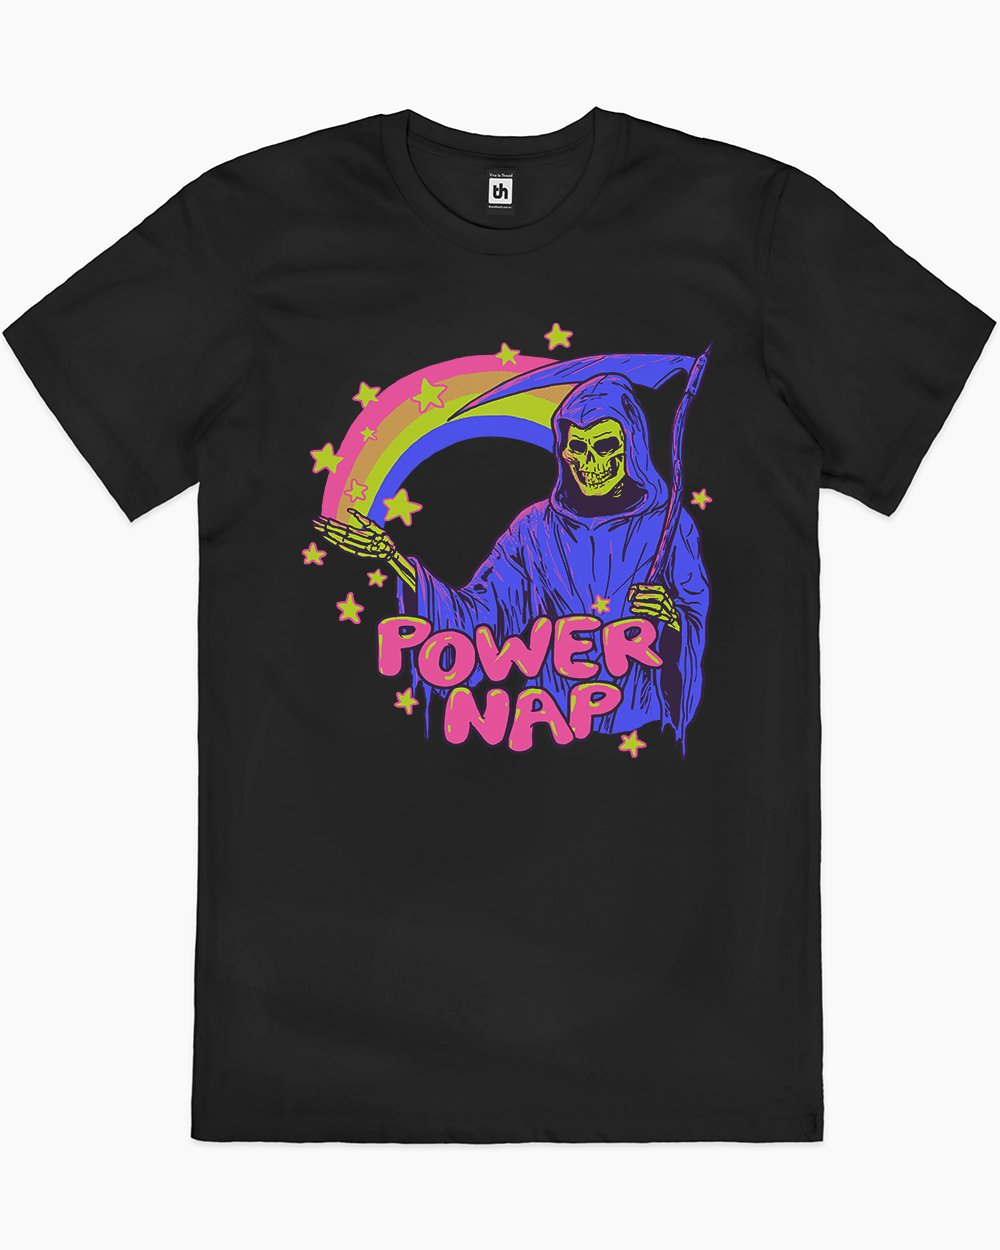design: (292, 314, 724, 766)
